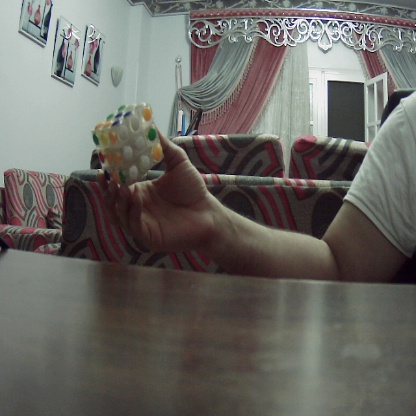Rubix Cube: (96, 104, 166, 179)
